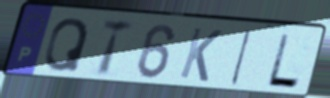6: (134, 22, 178, 81)
I: (227, 27, 255, 87)
K: (177, 25, 225, 85)
L: (264, 32, 302, 91)
Q: (42, 16, 92, 74)
T: (97, 17, 136, 78)
